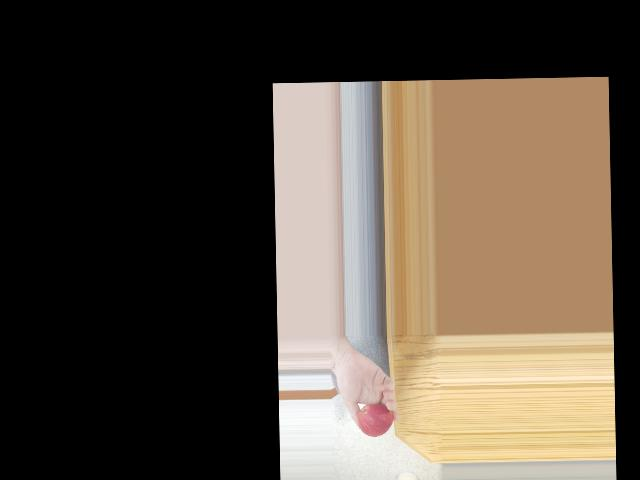apple: (356, 402, 392, 438)
